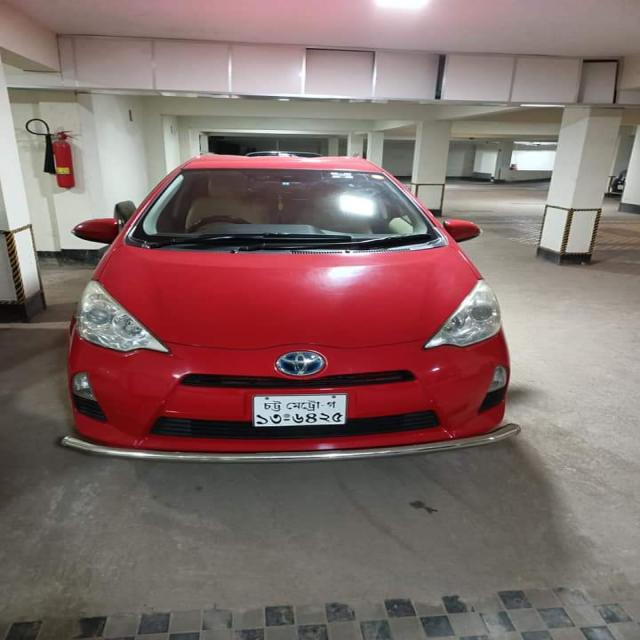red: (70, 146, 518, 454)
